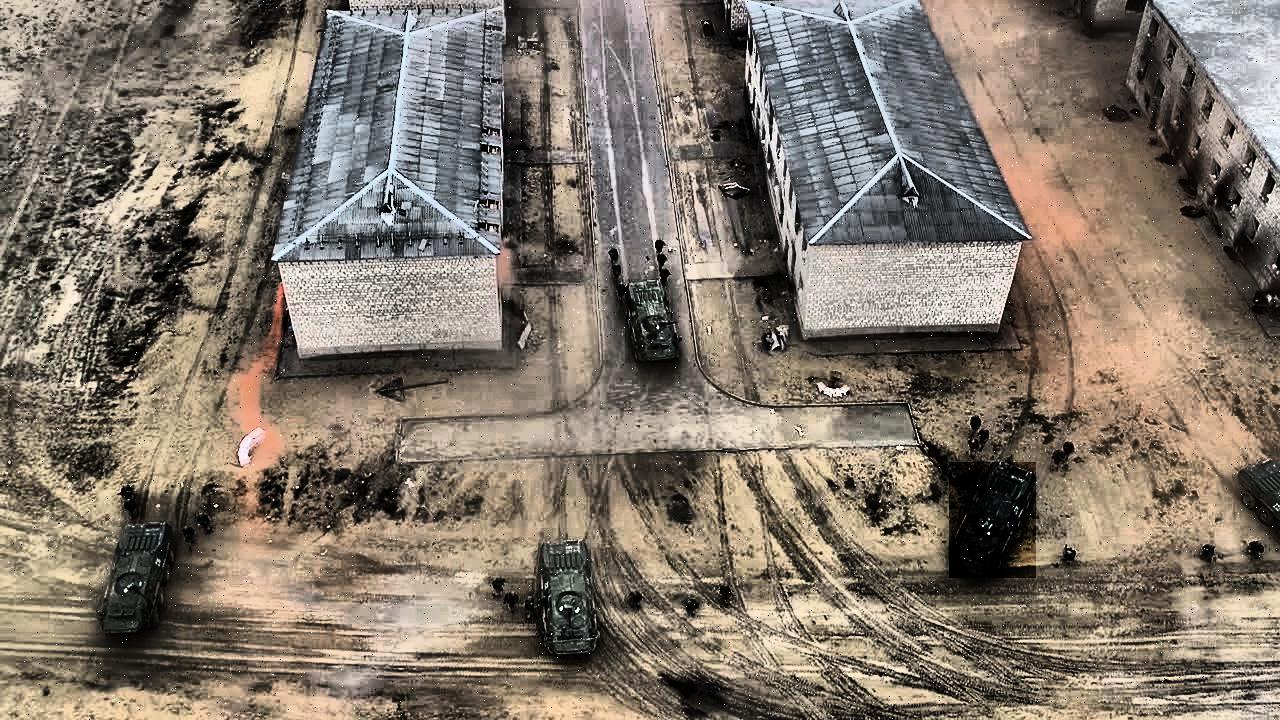military-vehicle: (950, 462, 1037, 578), (99, 522, 173, 637), (539, 540, 600, 659), (626, 279, 682, 363)
